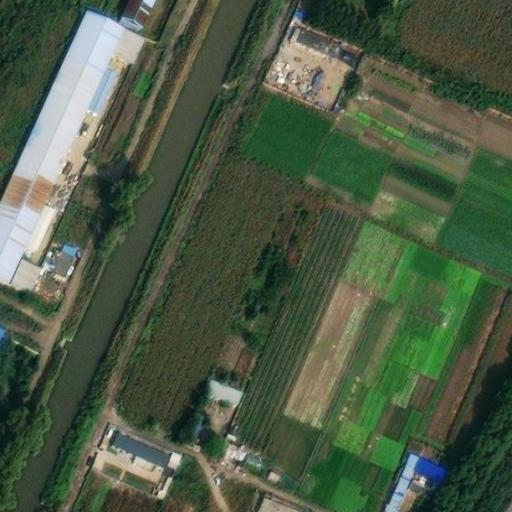building: (84, 442, 169, 499), (379, 445, 447, 512), (284, 18, 363, 67), (112, 423, 183, 464), (257, 486, 307, 512), (30, 267, 67, 302), (203, 372, 245, 402), (119, 0, 151, 26), (183, 409, 207, 442), (289, 0, 313, 24)
